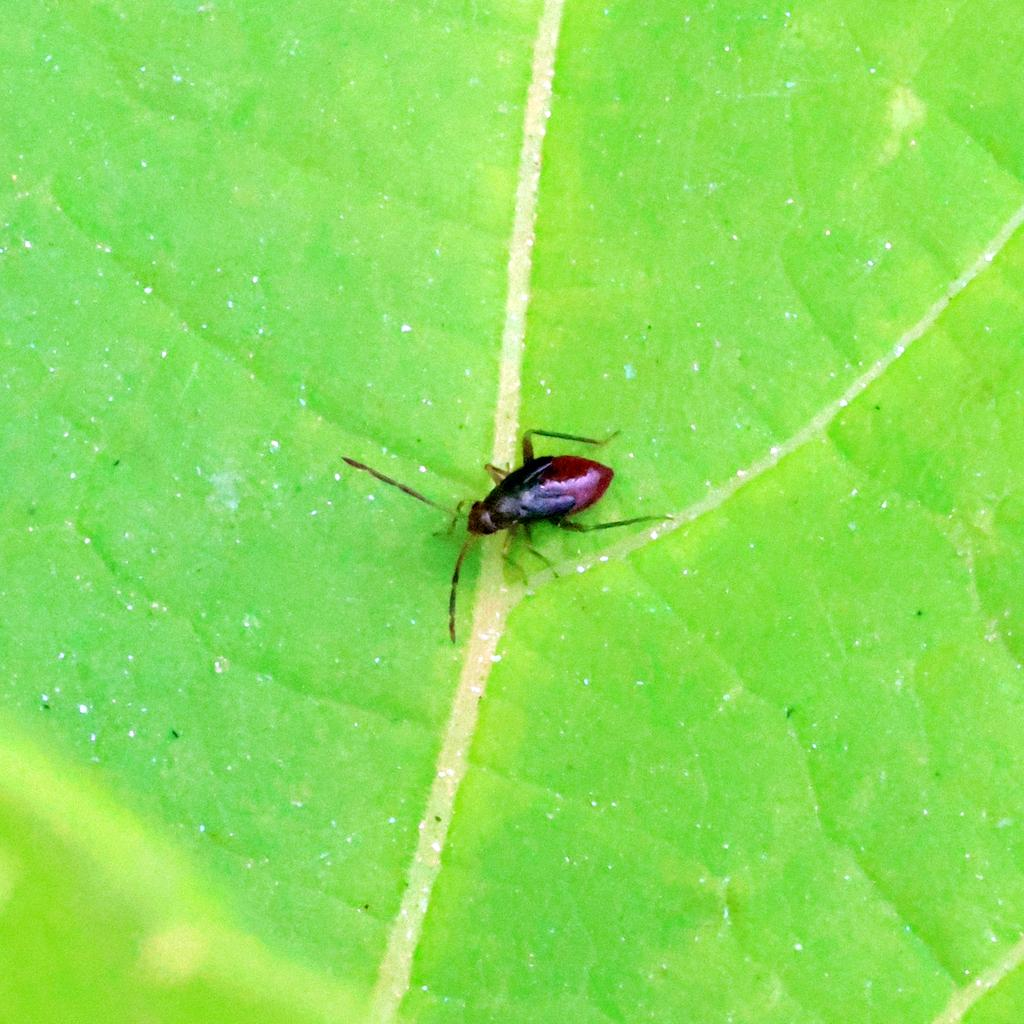plant_bugs: (269, 339, 736, 691)
